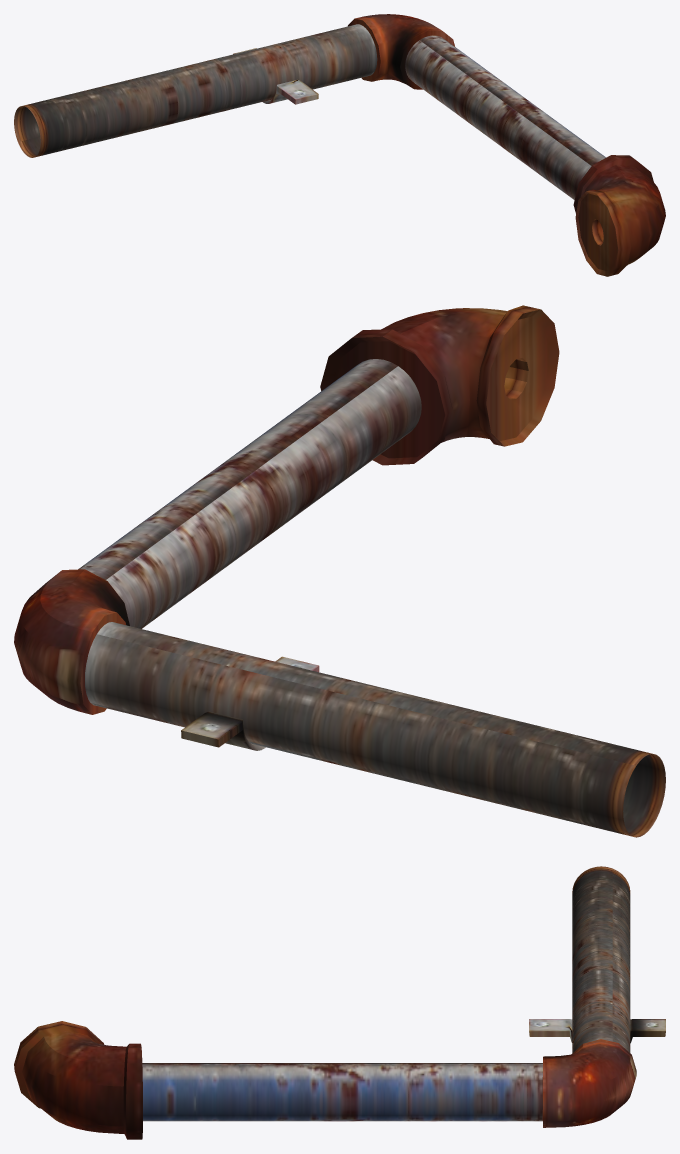
File: RUSTY CORNER.fbx
3 views of the same model, one above another, from view 1: azimuth 30°, elevation 25°; view 2: azimuth 150°, elevation 25°; view 3: azimuth 270°, elevation 25° (orthographic). The views are drawn at different scales.
Parts seen in each view (by area): view 1: RUSTY CORNER.001; view 2: RUSTY CORNER.001; view 3: RUSTY CORNER.001.
Boxes of the visible parts, <box> form: RUSTY CORNER.001: <box>14,14,665,276</box>; RUSTY CORNER.001: <box>14,305,665,837</box>; RUSTY CORNER.001: <box>14,866,665,1139</box>.
Size of the model in its own units: 7.14 by 1.33 by 8.97.
